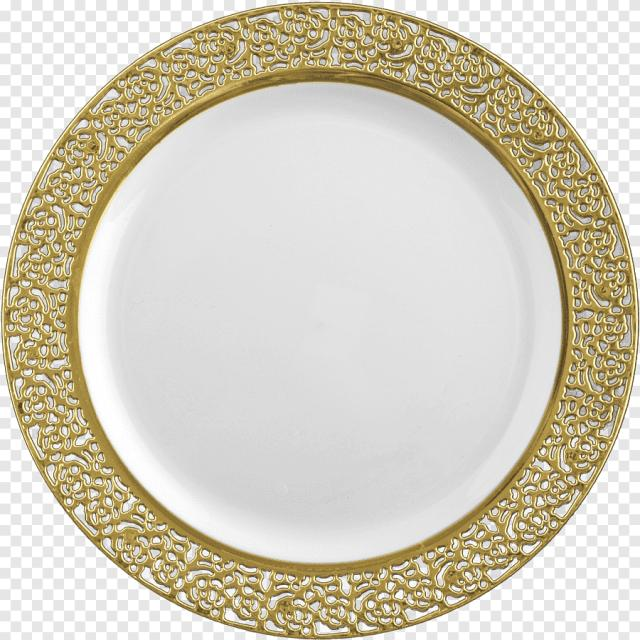Piring: (0, 5, 638, 640)
